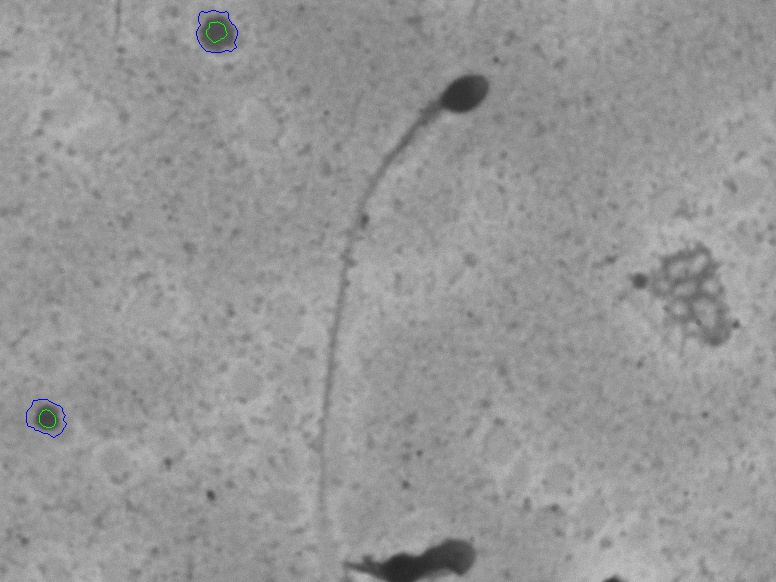Abnormal: (273, 52, 512, 464)
